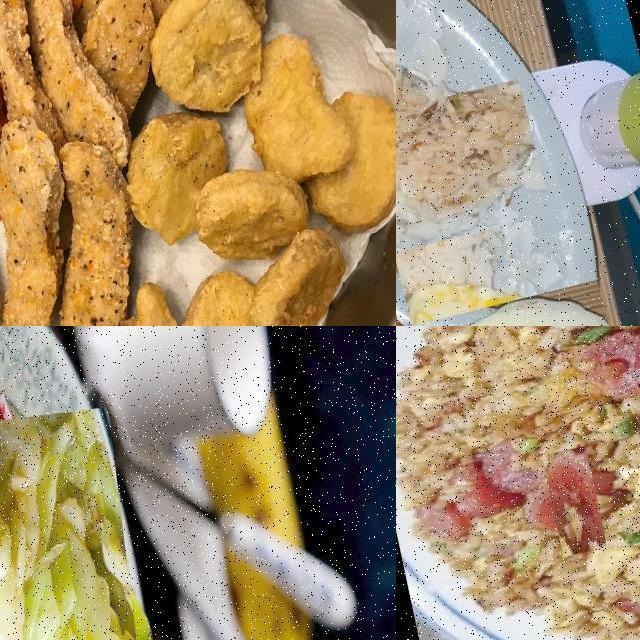Rice: (396, 64, 537, 279)
chicken_nuggets: (88, 0, 396, 326), (396, 190, 485, 326)
chinese_cabbage: (0, 405, 159, 640)
chinese_sausage: (529, 457, 618, 546), (576, 326, 640, 410)
fried_eggs: (396, 269, 628, 326)
mung_bean_sprouts: (396, 25, 500, 233)
triangle_hash_brown: (0, 0, 88, 213)
